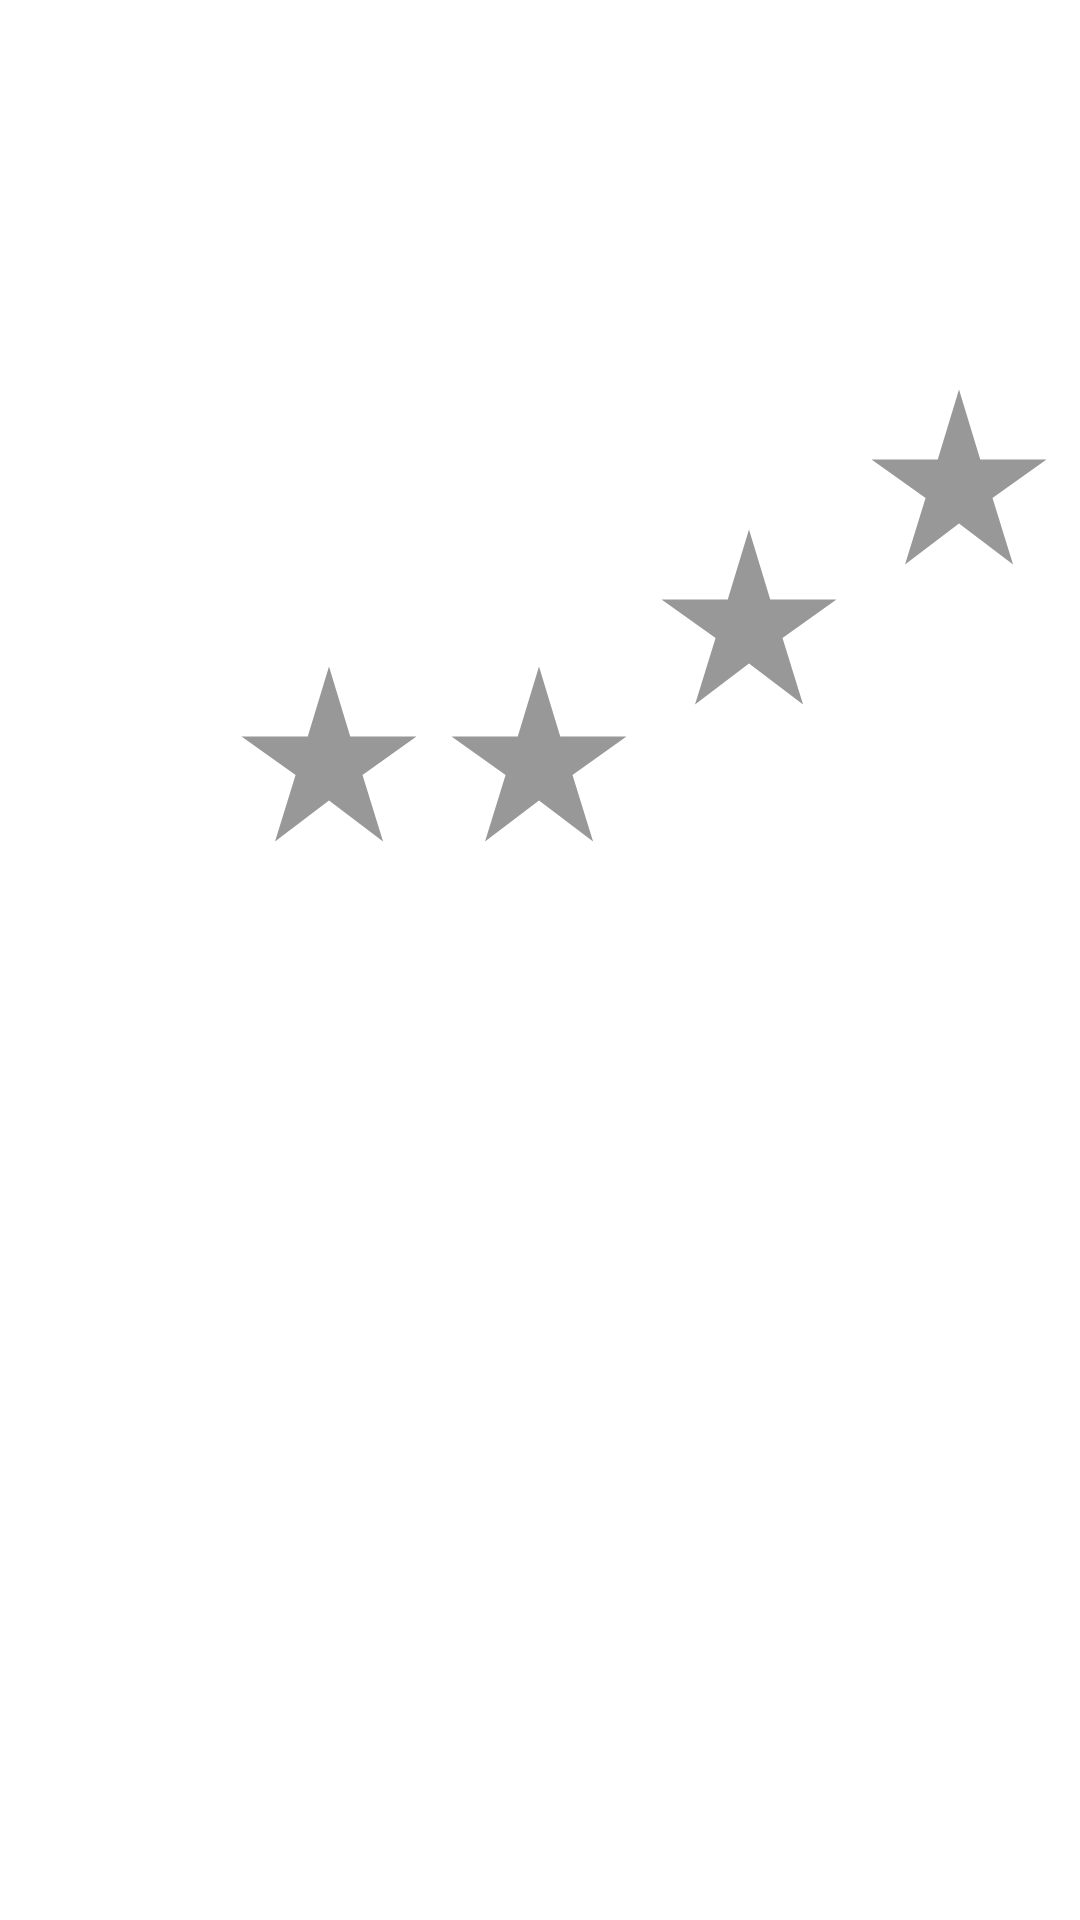

Icons on this 1080x1920 Android screen, each with its box as (x1, y1, x2, y2):
star: (872, 390, 1046, 564), (662, 530, 836, 704), (242, 667, 416, 841), (452, 667, 626, 841)
